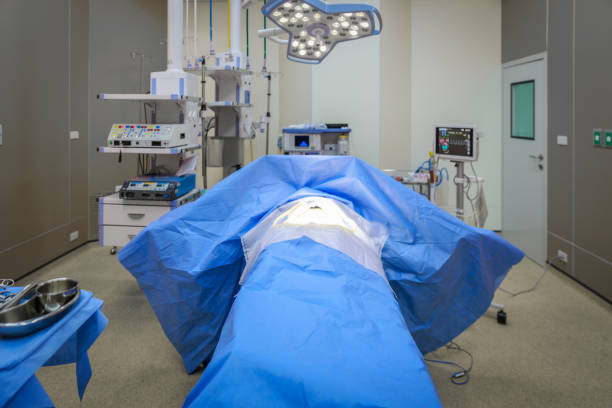computer: (433, 125, 479, 162)
door_handle: (527, 148, 544, 164)
electrosurgical_unit: (106, 122, 196, 149), (117, 172, 198, 201)
handle: (127, 212, 145, 218), (127, 233, 138, 238)
infusion_pump: (282, 128, 321, 152)
iv_pole: (183, 51, 214, 187), (126, 44, 159, 123), (256, 66, 283, 155)
medical_drawer: (96, 187, 202, 256)
operating_bed: (130, 153, 515, 408)
surgical_instrument: (1, 275, 84, 339)
surgical_light: (260, 1, 384, 66)
